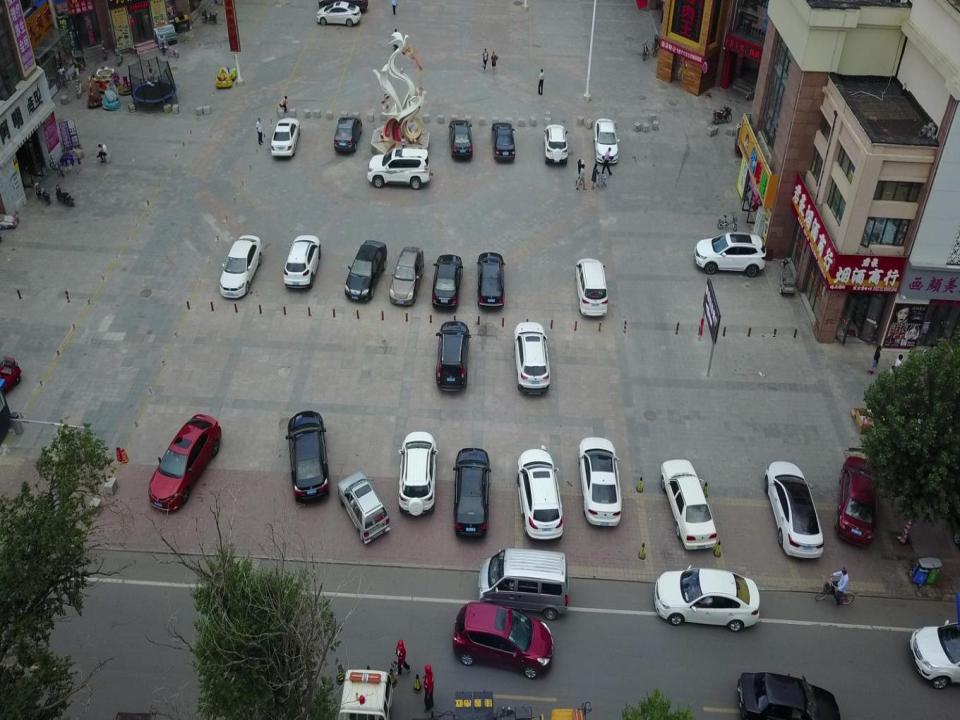car: (452, 600, 553, 680), (148, 412, 222, 512), (653, 564, 759, 632), (763, 460, 825, 560), (660, 458, 717, 550), (737, 672, 842, 720), (517, 448, 564, 542), (284, 410, 330, 504), (578, 436, 623, 529), (336, 470, 391, 544), (834, 456, 878, 548), (908, 617, 960, 690), (452, 447, 491, 539), (398, 430, 438, 517), (694, 232, 766, 278), (219, 234, 262, 300), (513, 322, 551, 396), (344, 239, 388, 302), (367, 148, 431, 190), (435, 320, 471, 391), (283, 234, 321, 291), (389, 246, 424, 307), (574, 258, 608, 317), (432, 253, 464, 310), (476, 252, 505, 309), (270, 118, 300, 158), (316, 1, 362, 26), (543, 124, 568, 166), (334, 116, 362, 153), (448, 120, 473, 159), (491, 121, 515, 161), (318, 0, 368, 12)
van: (477, 547, 569, 620), (335, 668, 394, 720)
